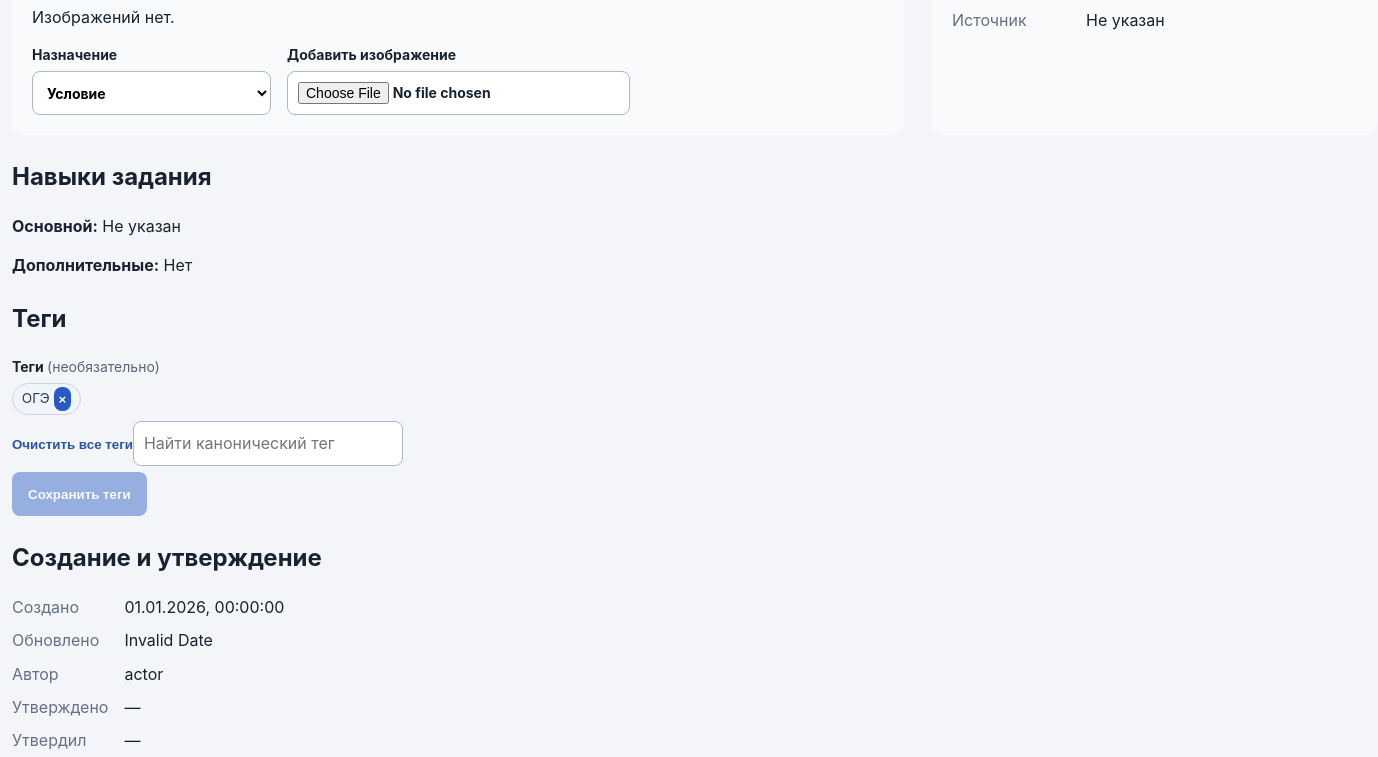
Test: task tag editor integration › validation error preserves local selection
The image size is (1378, 757).
(page scrolled)
In the dropdown named "Поиск: Теги": (268, 444) [133, 421, 403, 466], type "П"
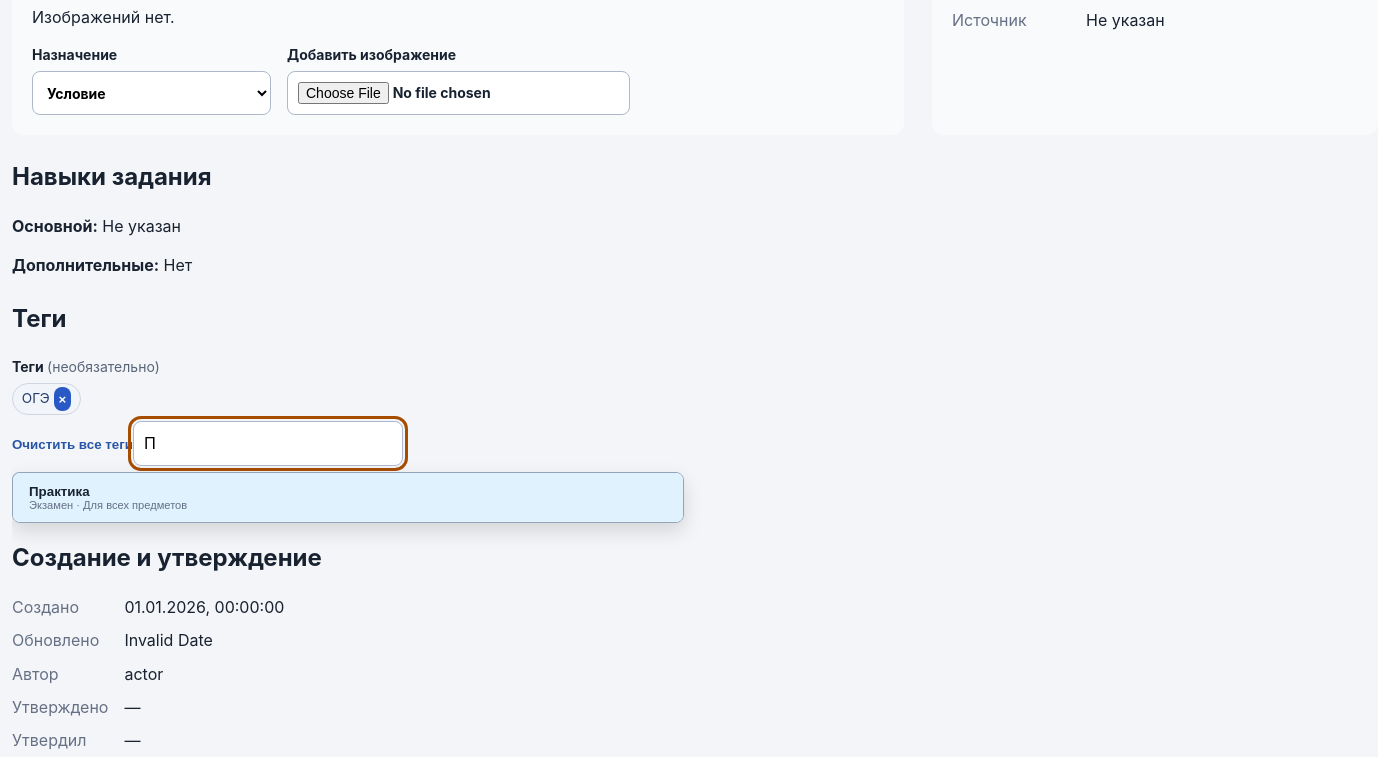
Click the option "Практика Экзамен · Для всех предметов": (59, 492) [13, 473, 683, 522]
(page scrolled)
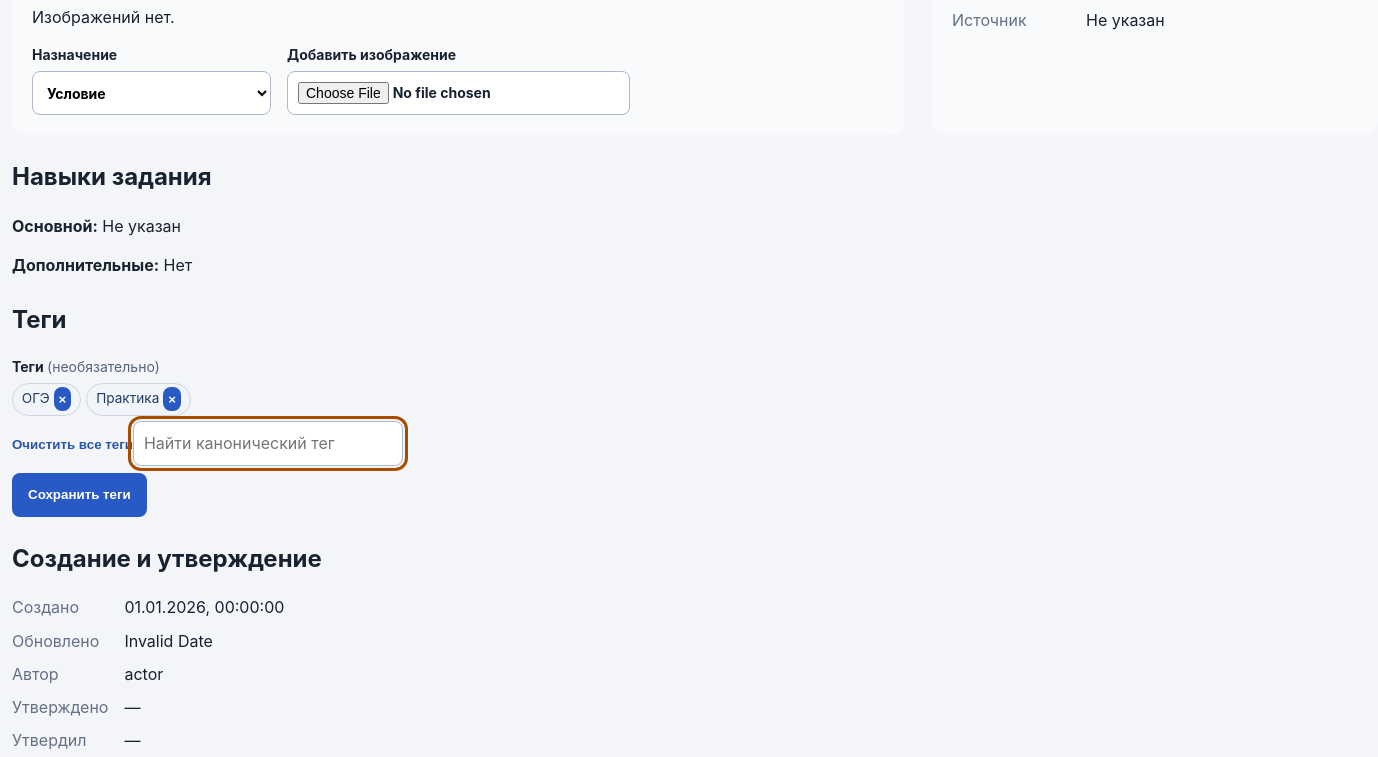
Click the button "Сохранить теги": (79, 495) [12, 473, 147, 517]
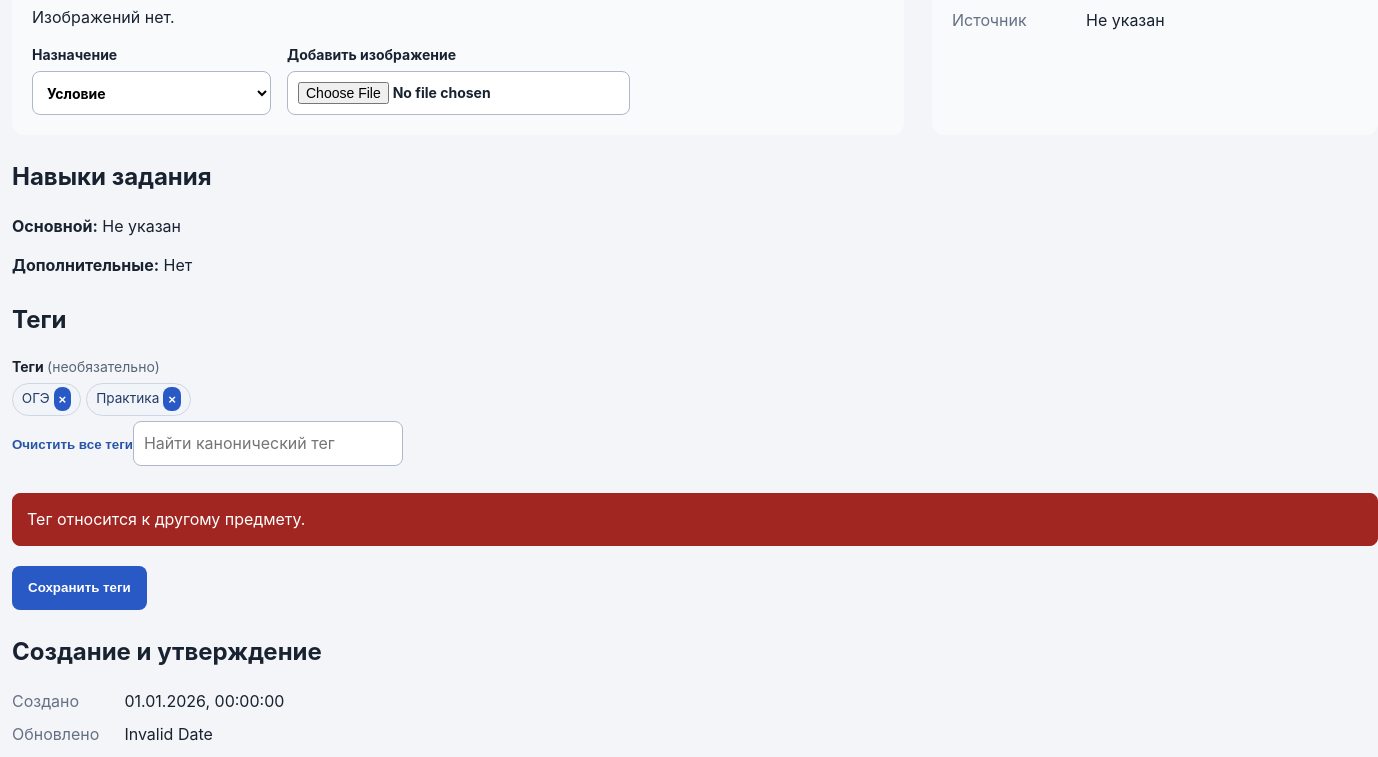
Check: the text "Практика" is shown, box [96, 390, 159, 406]
Check: the message shows "другому предмету", box [27, 509, 305, 529]
